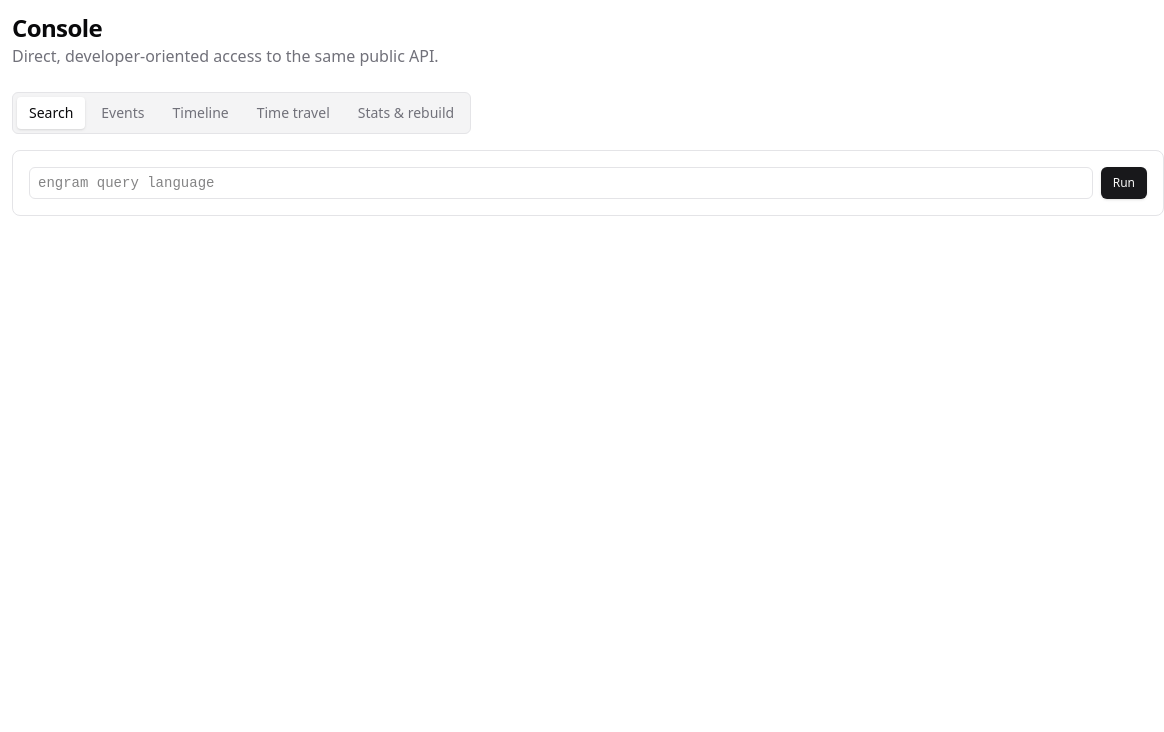
Test: stats & rebuild: shows current stats and replays the log on confirm
Click the tab "Stats & rebuild": (406, 113) top-left (346, 97), bottom-right (466, 129)
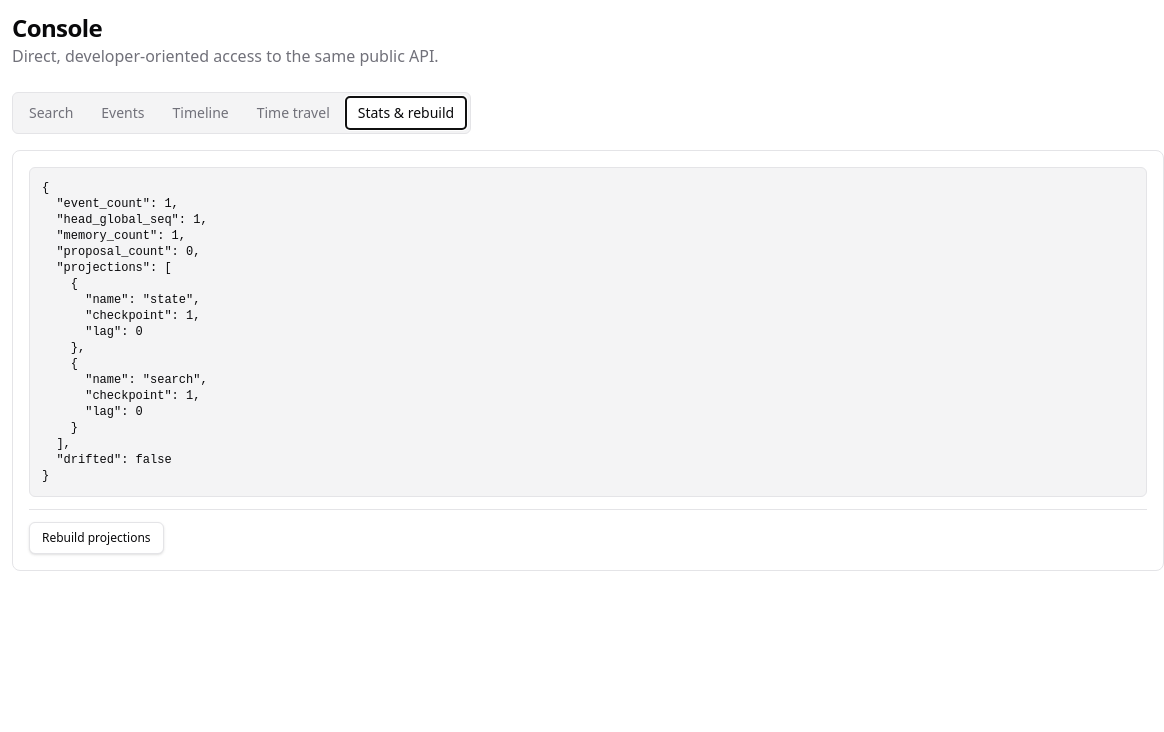
Expected: the text "\"memory_count\": 1" is shown, top-left (42, 181), bottom-right (208, 483)
Click the button "Rebuild projections": (96, 538) top-left (29, 522), bottom-right (164, 554)
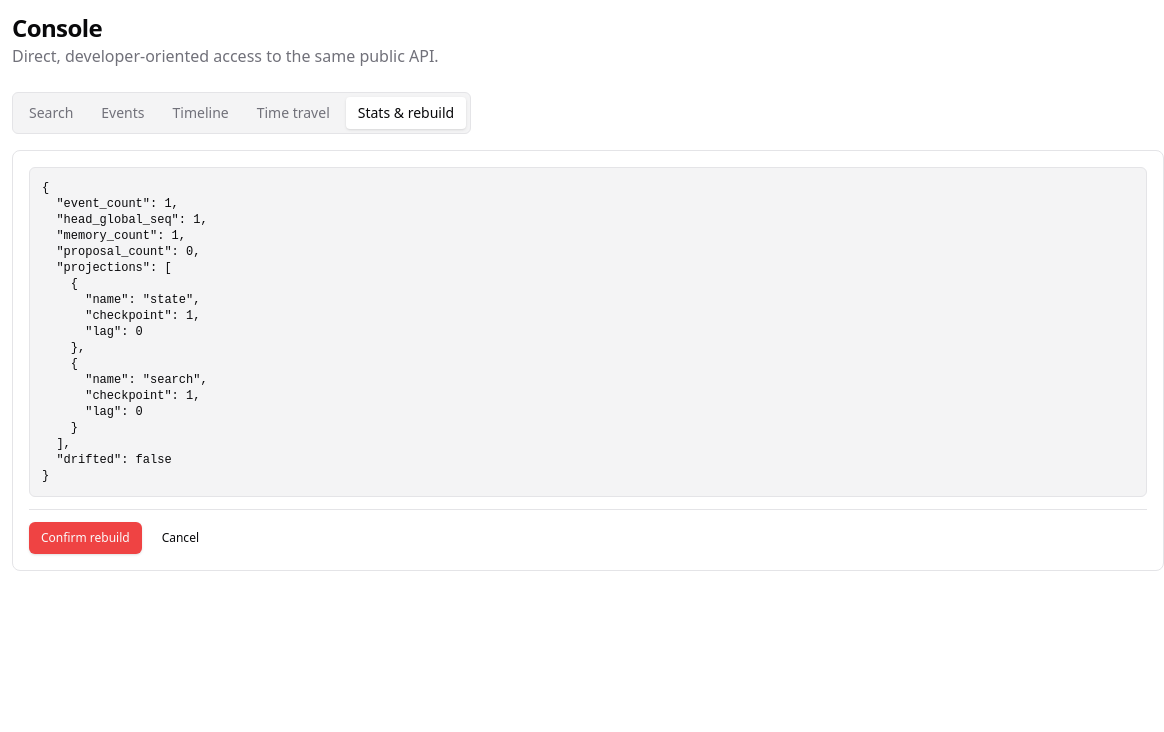
Click the button "Confirm rebuild": (85, 538) top-left (29, 522), bottom-right (142, 554)
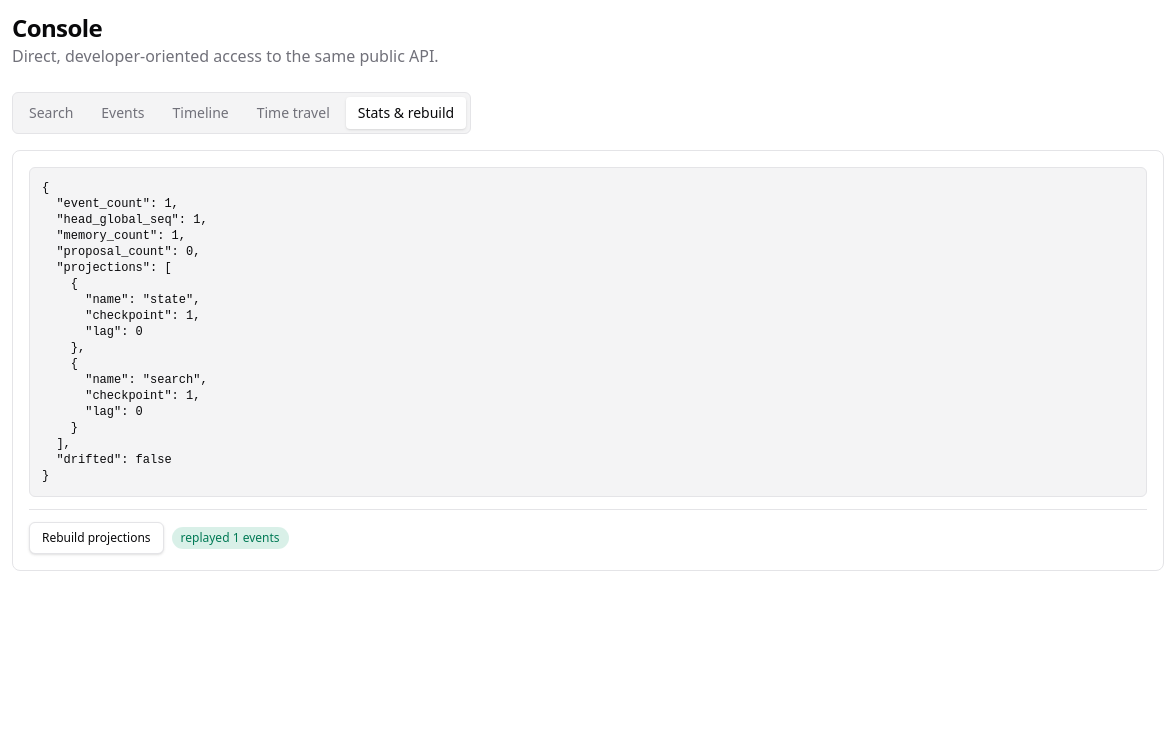
Expected: the text "replayed 1 events" is shown, top-left (172, 527), bottom-right (289, 549)
